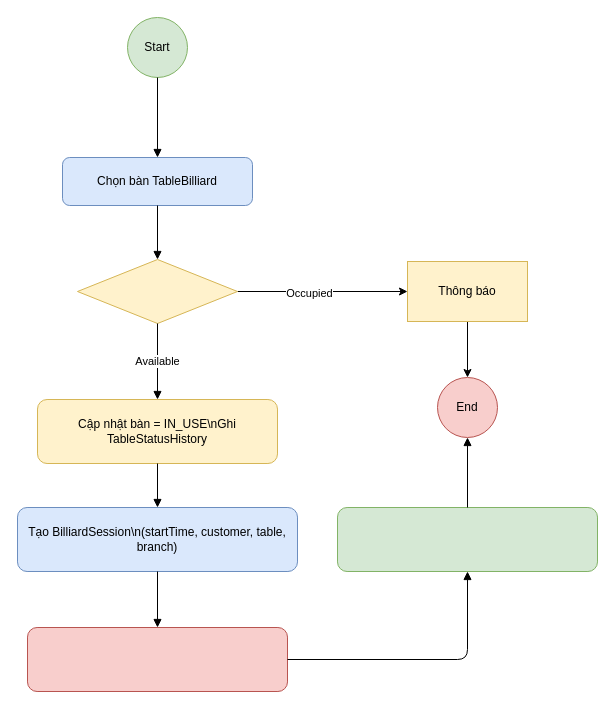
Some shapes in this 615 by 709 pixel diagram are drawn without their labels. The box of each missing label's shape, as (x1, y1, x2, y2) in pixels:
Cập nhật bàn = AVAILABLE\nGhi TableStatusHistory: (336, 506, 598, 572)
Kiểm tra status: (76, 258, 238, 324)
Kết thúc phiên\n(endTime, durationHours, totalAmount): (26, 626, 288, 692)
